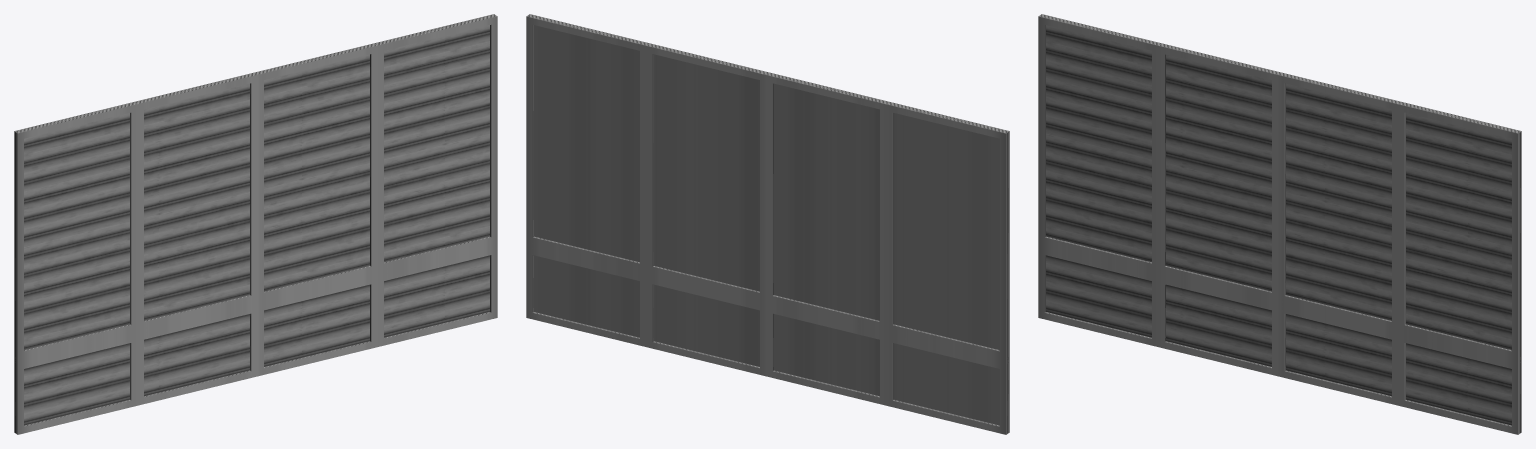
The model's file is garageDoor.FBX.
3 renders of one model, left to right at view 1: azimuth 30°, elevation 25°; view 2: azimuth 150°, elevation 25°; view 3: azimuth 330°, elevation 25°, orthographic.
Parts seen in each view (by area): view 1: panes, Box002; view 2: Box002; view 3: panes, Box002.
Boxes of the visible parts, x1,y1,x2,y2 form: panes: (24,25,489,425); Box002: (14,14,497,434); Box002: (526,14,1009,434); panes: (1046,25,1511,425); Box002: (1038,14,1521,434).
Size of the model in its own units: 400 by 240 by 5.
